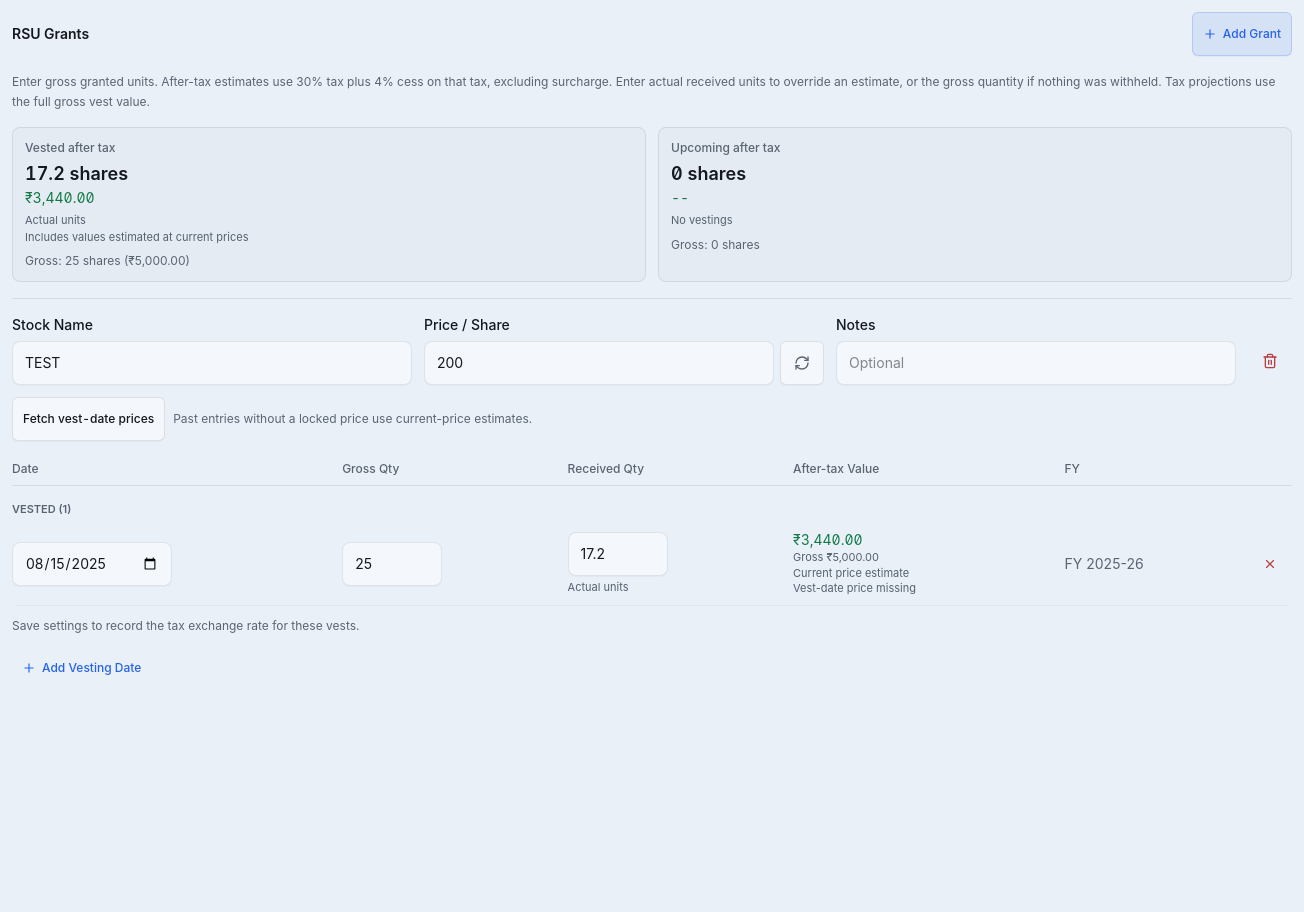
Test: RSU received-unit settings › keeps missing historical prices as estimates until a requested dated FX lookup succeeds
The width and height of the screenshot is (1304, 912).
Expected: the text "Current price estimate" is shown, [793,566,909,580]
Expected: the text "Vest-date price missing" is shown, [793,581,916,595]
Step 1. Click the button "Fetch vest-date prices" → (89, 419), box [12,397,165,441]
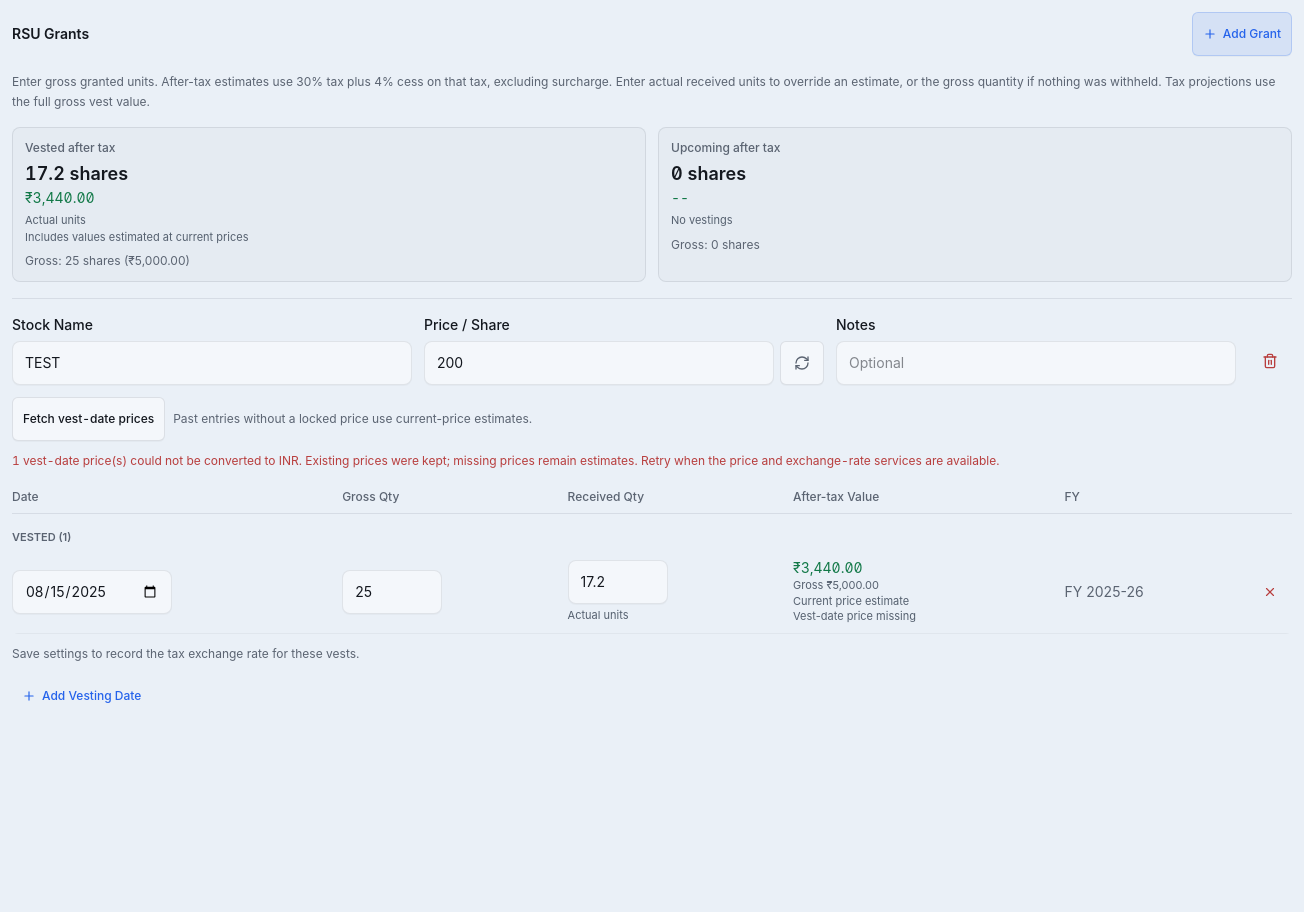
Now the text "could not be converted to INR" is shown, box [12,453,999,468]
Step 2. Click the button "Fetch vest-date prices" → (89, 419), box [12,397,165,441]
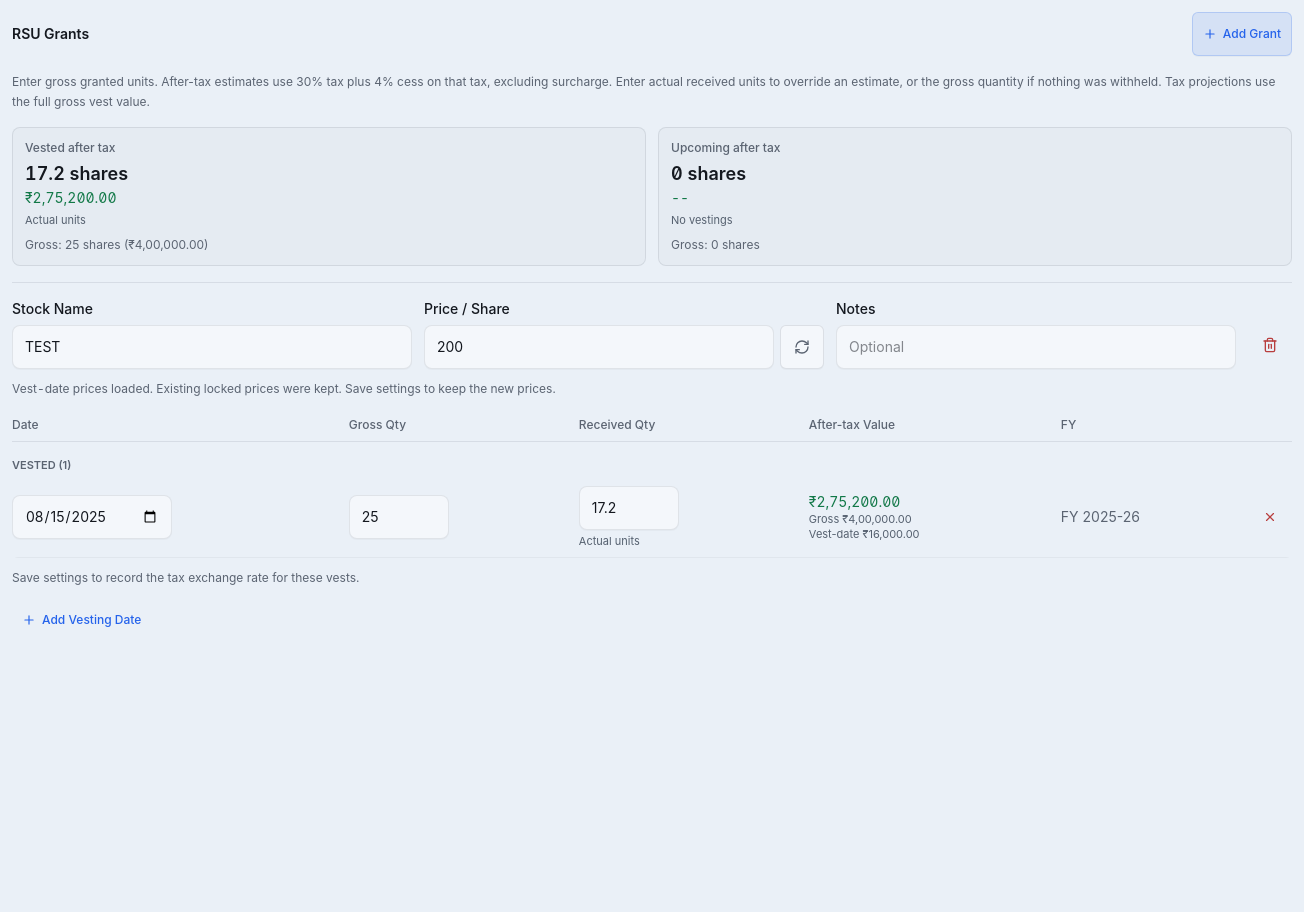
Now the text "Vest-date ₹16,000.00" is shown, box [809,527,920,541]
